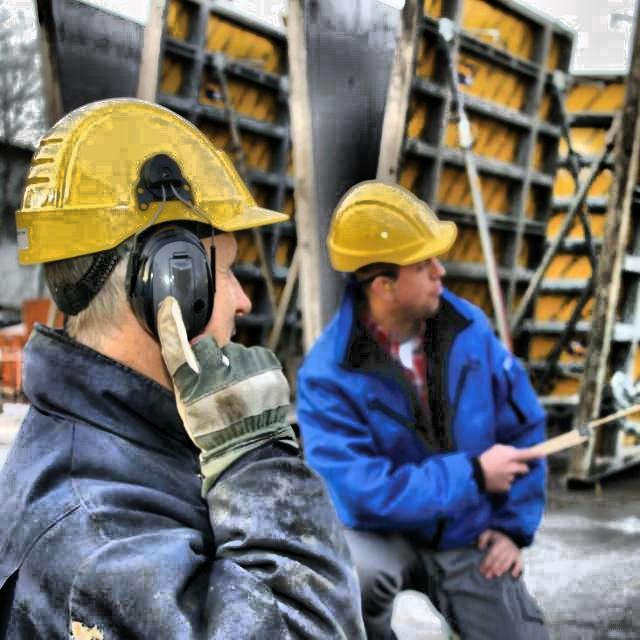person: (0, 55, 343, 640), (282, 151, 538, 640)
